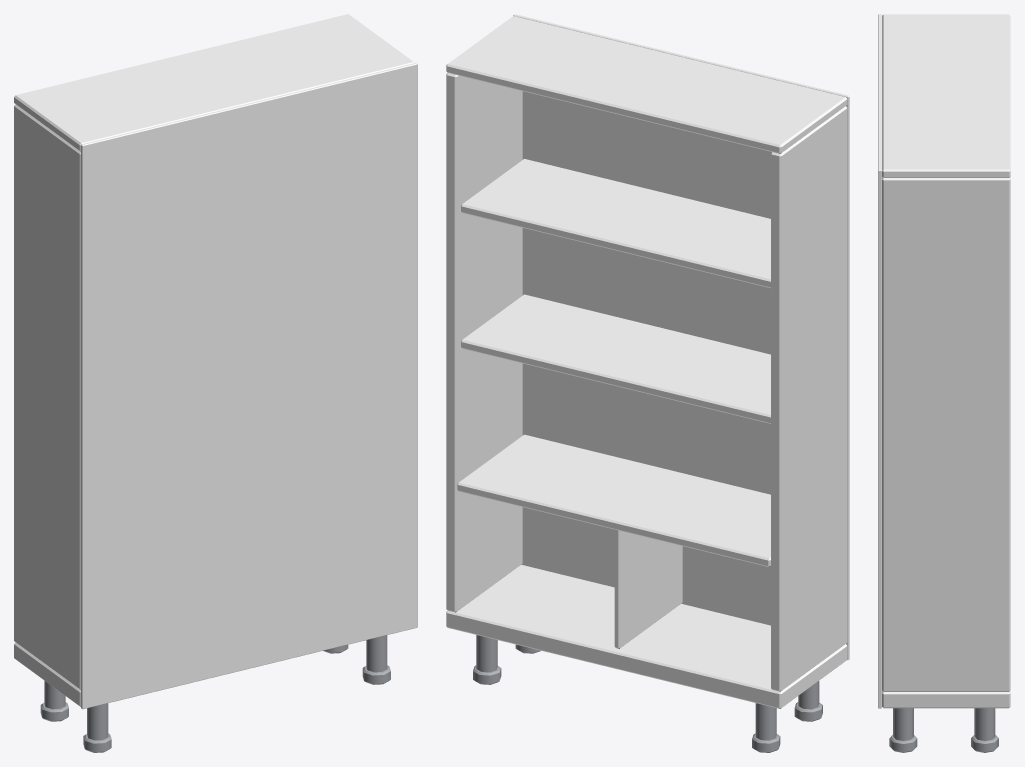
Rendered from Bookcase.fbx.
3 views of the same model, side by side, from view 1: azimuth 30°, elevation 25°; view 2: azimuth 150°, elevation 25°; view 3: azimuth 270°, elevation 25° (orthographic). The views are drawn at different scales.
Parts seen in each view (by area): view 1: Bookcase; view 2: Bookcase; view 3: Bookcase.
Boxes of the visible parts, x1=… form: Bookcase: x1=14, y1=14, x2=417, y2=752; Bookcase: x1=446, y1=14, x2=849, y2=752; Bookcase: x1=878, y1=14, x2=1010, y2=752.
Size of the model in its own units: 1.06 by 1.87 by 0.3802.
